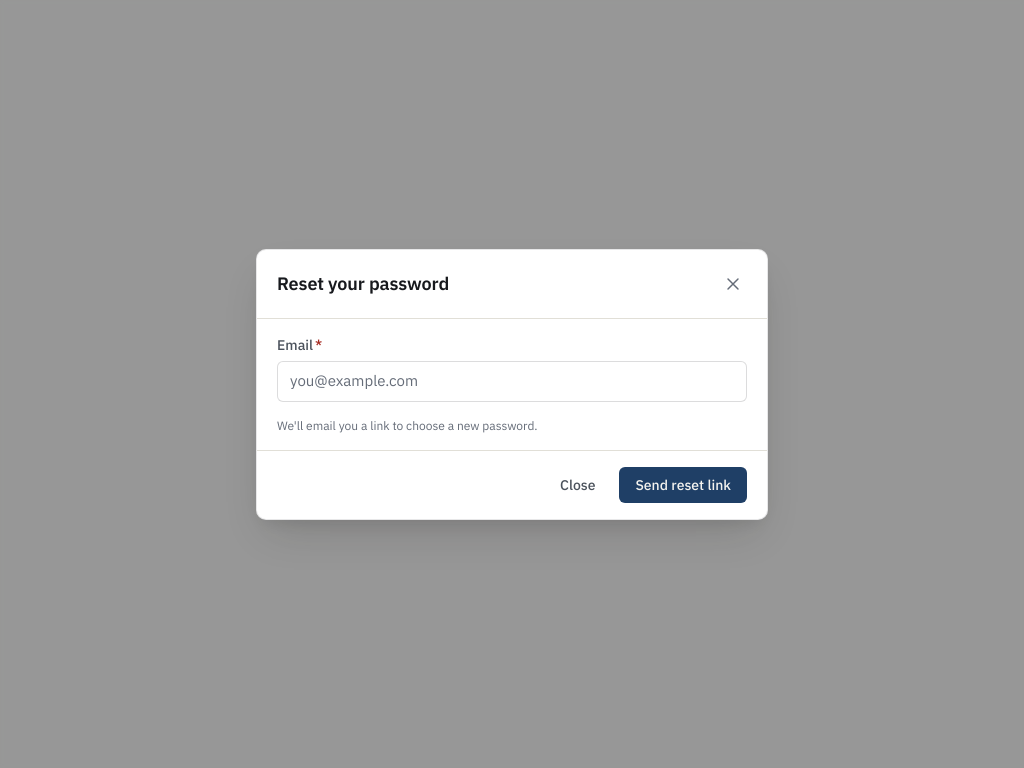
Test: ForgotPasswordModal › requests a reset and shows enumeration-safe confirmation
Type "ada@example.com" into the field labelled "Email*".
click(512, 381); type("ada@example.com")  # box [277, 361, 747, 401]
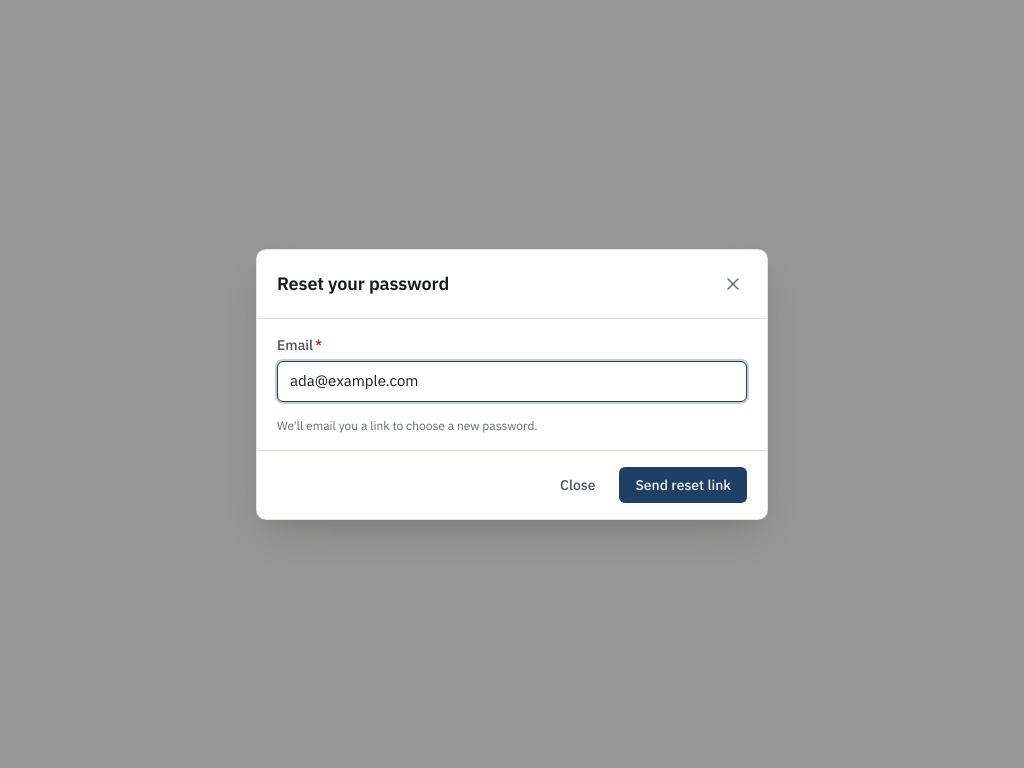
Click the button "Send reset link".
click(683, 484)  # box [620, 466, 747, 502]
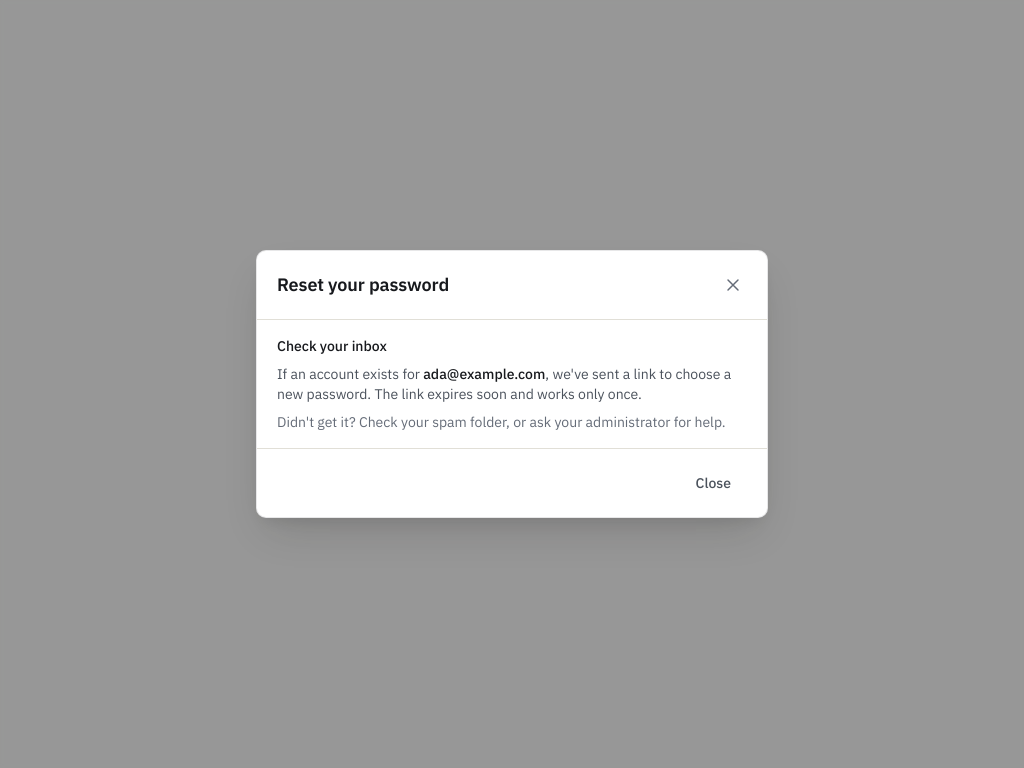
Result: the message shows "Check your inbox" at [277, 337, 387, 355]
Result: the message shows "ada@example.com" at [423, 365, 545, 383]
Result: the message shows "If an account exists" at [277, 365, 423, 383]
